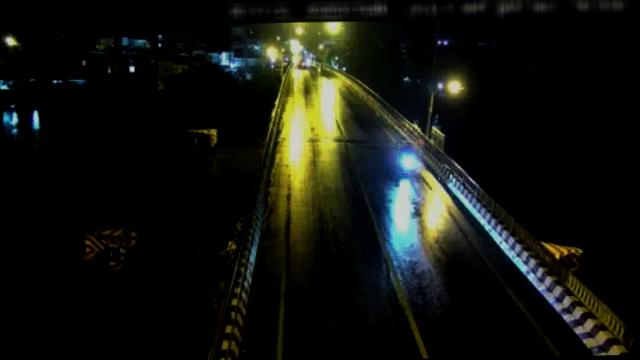Bike: (396, 140, 421, 172)
